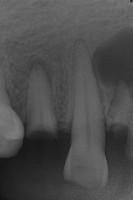Furcation Involvement: (91, 26, 133, 92), (27, 54, 54, 93)
